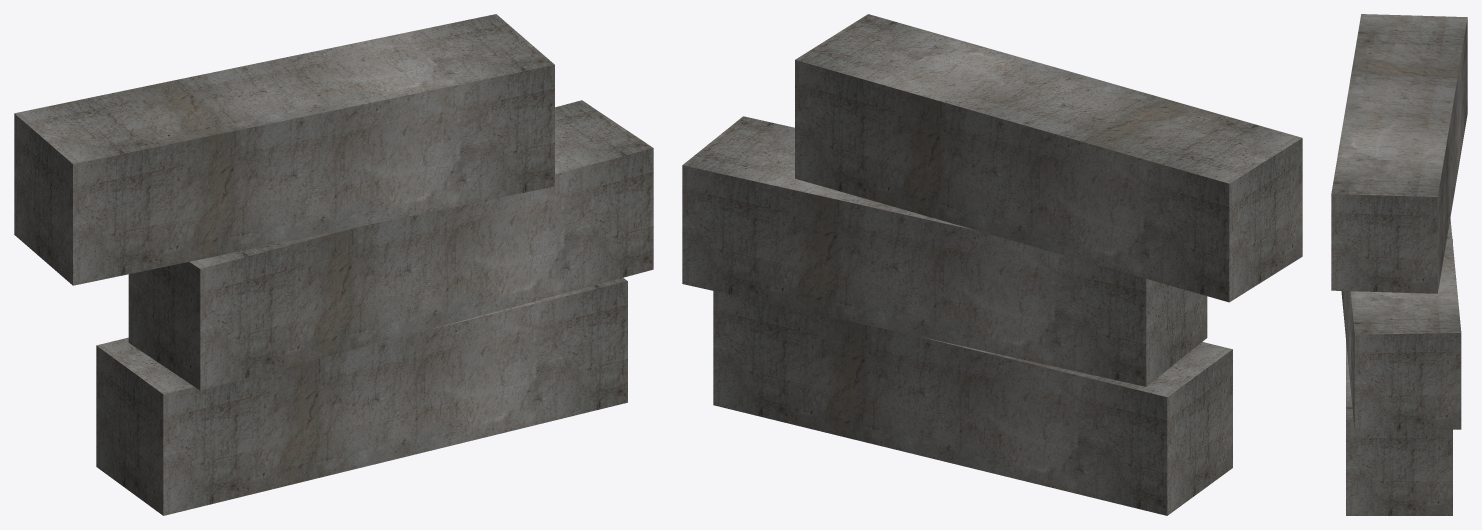
Rendered from S1U_FBSStack.fbx.
3 renders of one model, left to right at view 1: azimuth 30°, elevation 25°; view 2: azimuth 150°, elevation 25°; view 3: azimuth 270°, elevation 25°, orthographic. The views are drawn at different scales.
Parts seen in each view (by area): view 1: S1U_FBSStack; view 2: S1U_FBSStack; view 3: S1U_FBSStack.
Boxes of the visible parts, <box> form: S1U_FBSStack: <box>14,14,653,515</box>; S1U_FBSStack: <box>682,14,1302,515</box>; S1U_FBSStack: <box>1331,14,1467,515</box>.
Bounding box in the file's own units: 2.98 × 1.8 × 0.7664.
